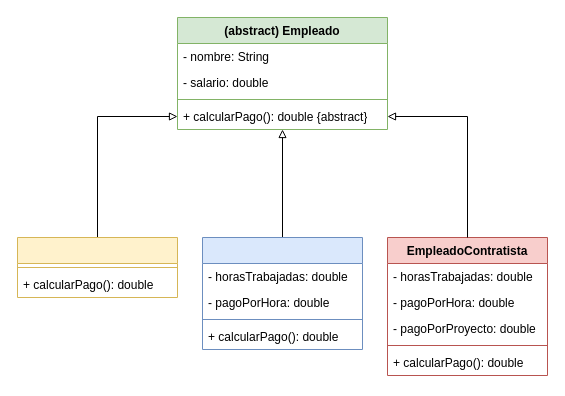
Some shapes in this 565 by 396 pixel diagram are drawn without their labels. The box of each missing label's shape, as (x1, y1, x2, y2) in pixels:
EmpleadoPorHoras: (202, 236, 362, 350)
EmpleadoTiempoCompleto: (16, 236, 178, 298)
